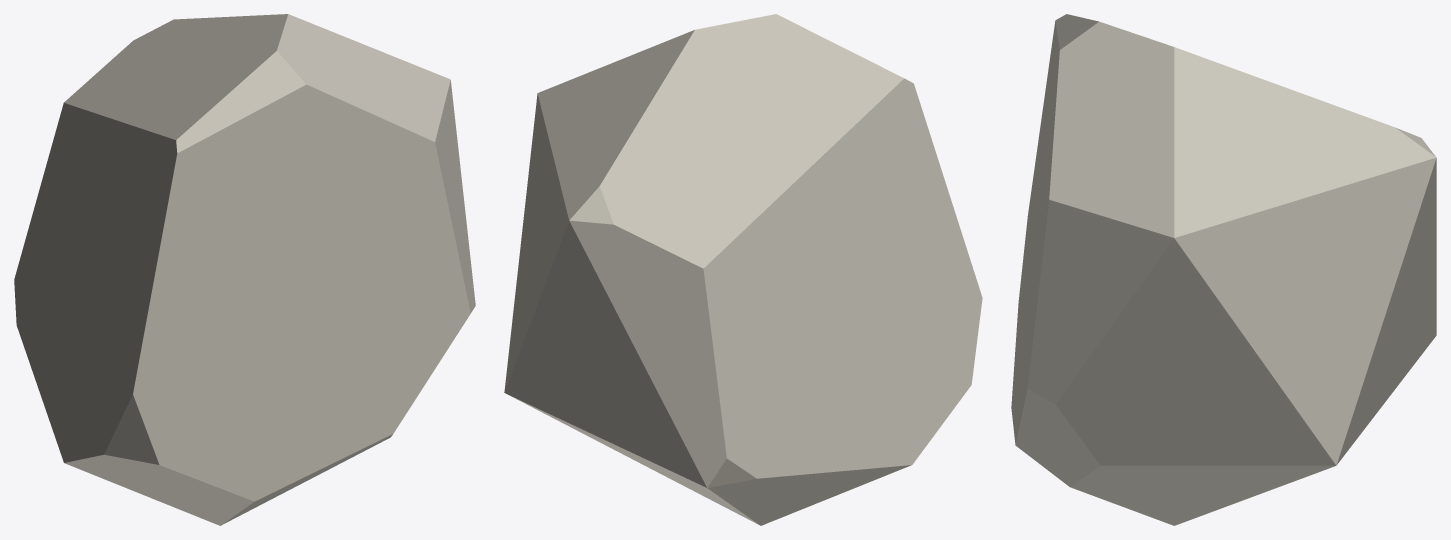
The model's file is rock_09.fbx.
3 views of the same model, side by side, from view 1: azimuth 30°, elevation 25°; view 2: azimuth 150°, elevation 25°; view 3: azimuth 270°, elevation 25° (orthographic). The views are drawn at different scales.
Visible parts, largest first — view 1: rock_09; view 2: rock_09; view 3: rock_09.
Part boxes in pixels (x1,y1,x2,y2): rock_09: (14,14,475,525); rock_09: (504,14,982,525); rock_09: (1011,14,1436,525).
Size of the model in its own units: 51.23 by 61.22 by 45.84.
1 material, 1 textured.
